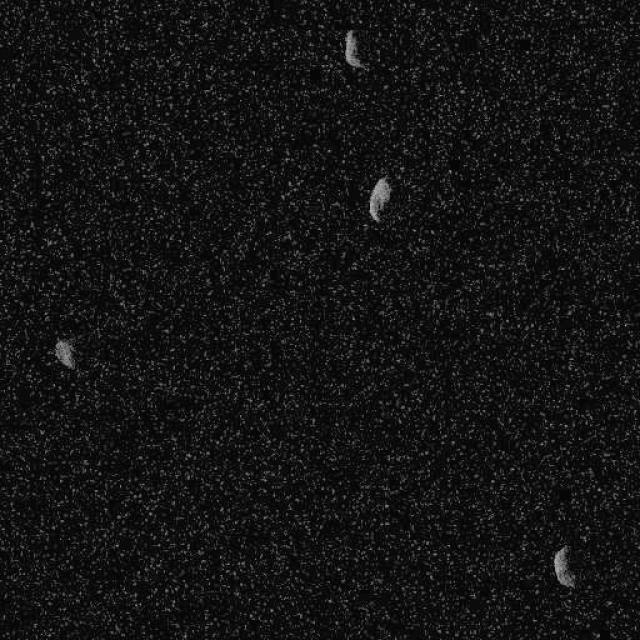D2: (368, 175, 392, 223), (551, 544, 575, 588), (342, 29, 367, 70), (52, 338, 76, 370)
